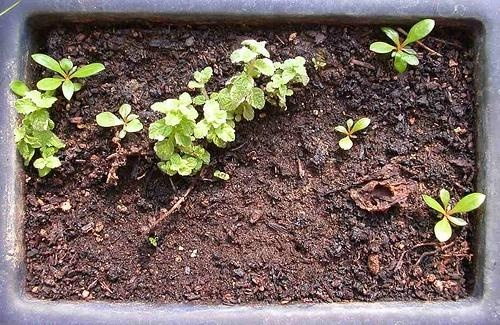pottedplant: (2, 1, 500, 325)
